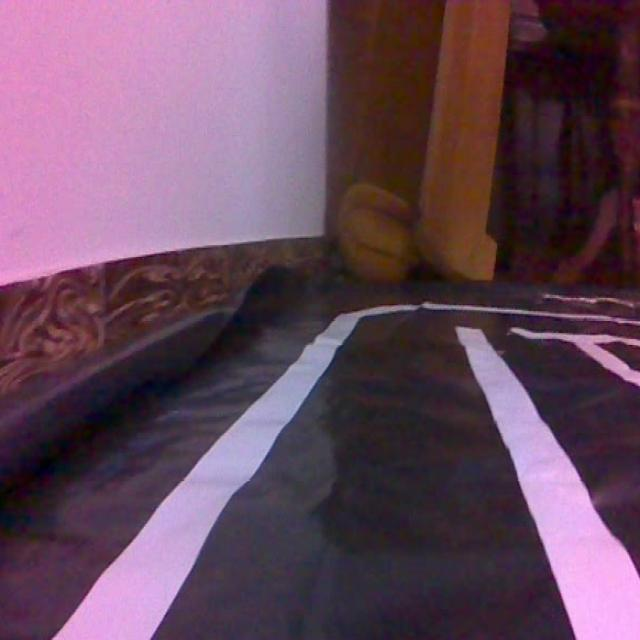LineaCarril: (51, 307, 417, 640), (458, 327, 640, 640), (586, 336, 640, 385), (516, 415, 521, 420)
